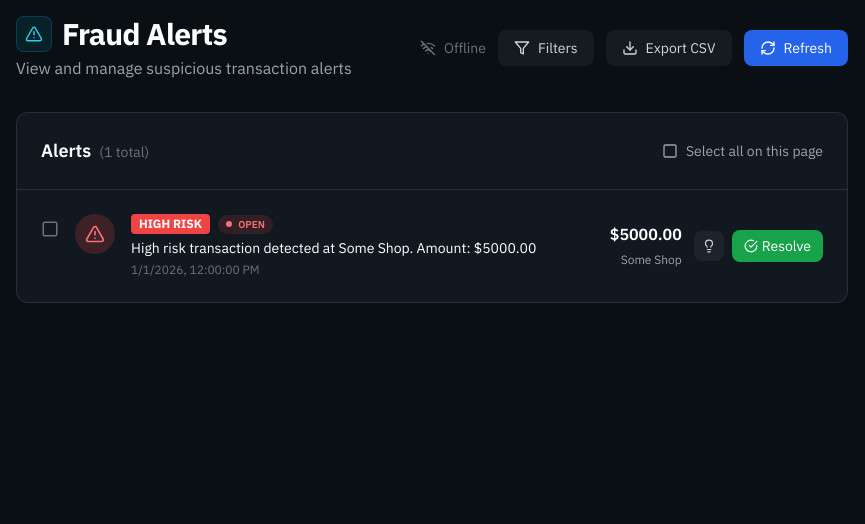
Test: AlertsPage › a failed resolve shows the server error inline and keeps the alert unresolved
Expected: the text "High risk transaction detected" is shown, [131,239,536,257]
Step 1. Click the button "Resolve" → click(777, 246), box [732,230,823,262]
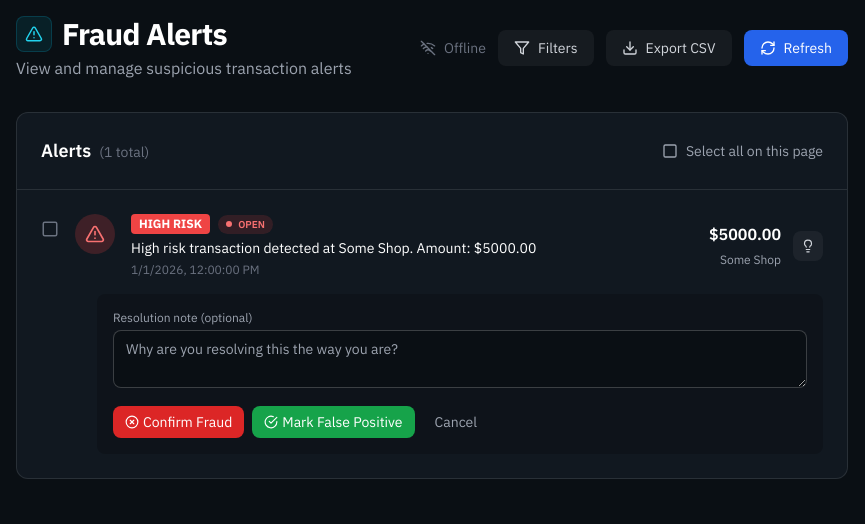
Step 2. Click the button "Confirm Fraud" → click(179, 422), box [113,406,244,438]
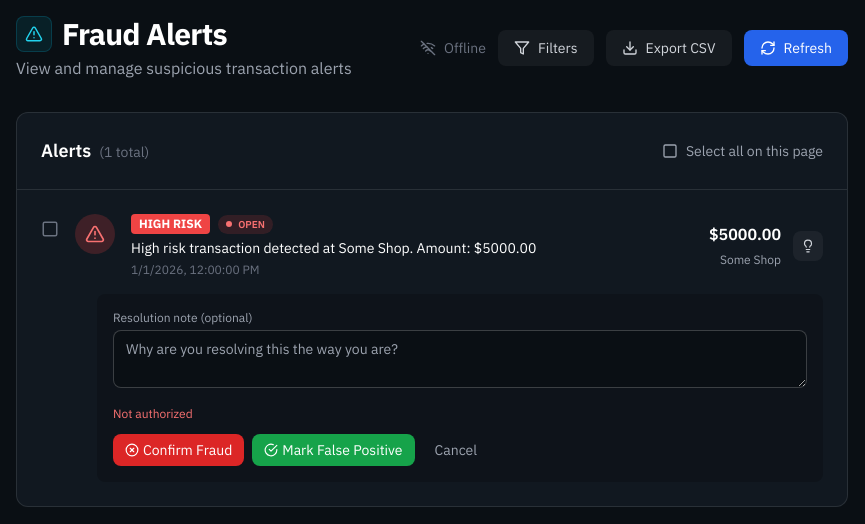
Expected: the text "High risk transaction detected" is shown, [131,239,536,257]
Now the button "Confirm Fraud" is shown, box [113,434,244,466]
Now the text "Not authorized" is shown, box [113,406,193,421]
